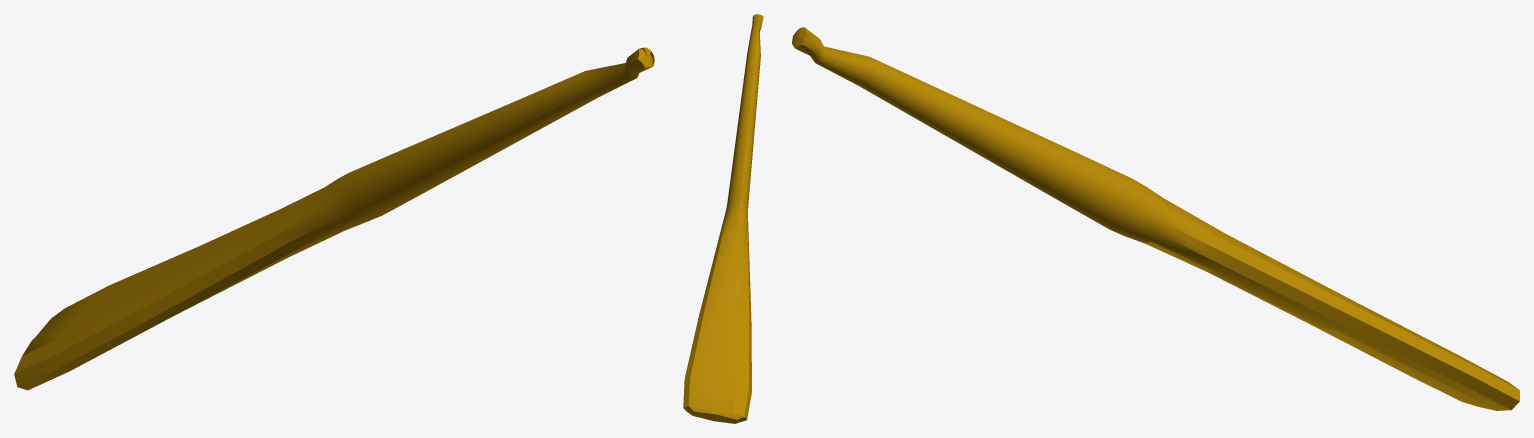
File: veslo.fbx
3 renders of one model, left to right at view 1: azimuth 30°, elevation 25°; view 2: azimuth 150°, elevation 25°; view 3: azimuth 270°, elevation 25°, orthographic. The views are drawn at different scales.
Parts seen in each view (by area): view 1: Cylinder.018; view 2: Cylinder.018; view 3: Cylinder.018.
Part boxes in pixels (<box>): Cylinder.018: <box>14,47,654,390</box>; Cylinder.018: <box>683,14,763,423</box>; Cylinder.018: <box>792,27,1519,410</box>.
Bounding box in the file's own units: 113 × 176 × 228.
